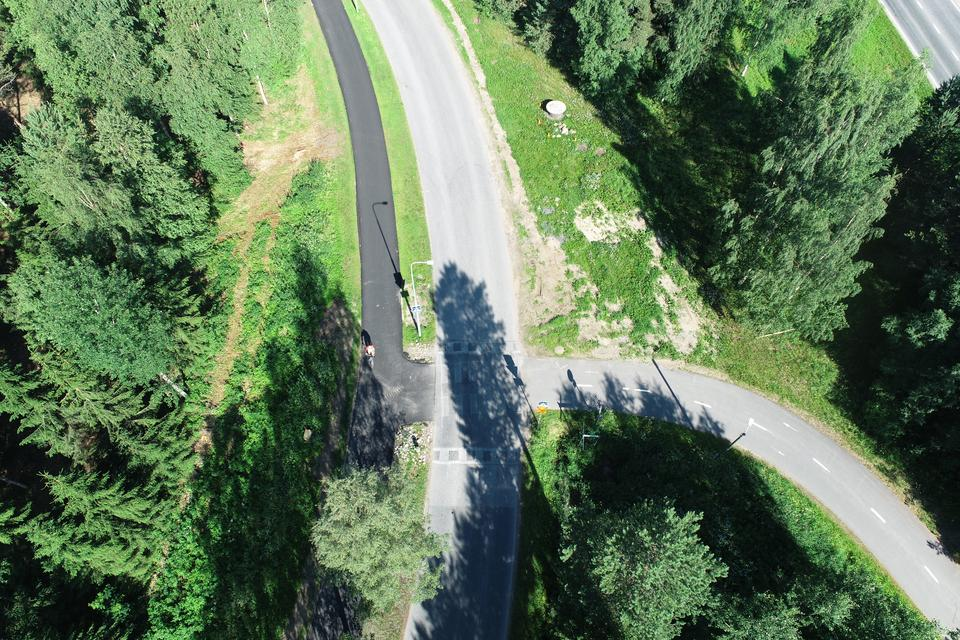intersection: (327, 294, 612, 475)
